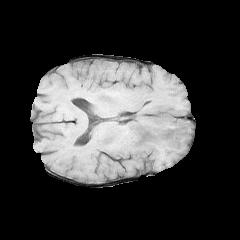glioma: (123, 104, 193, 149)
